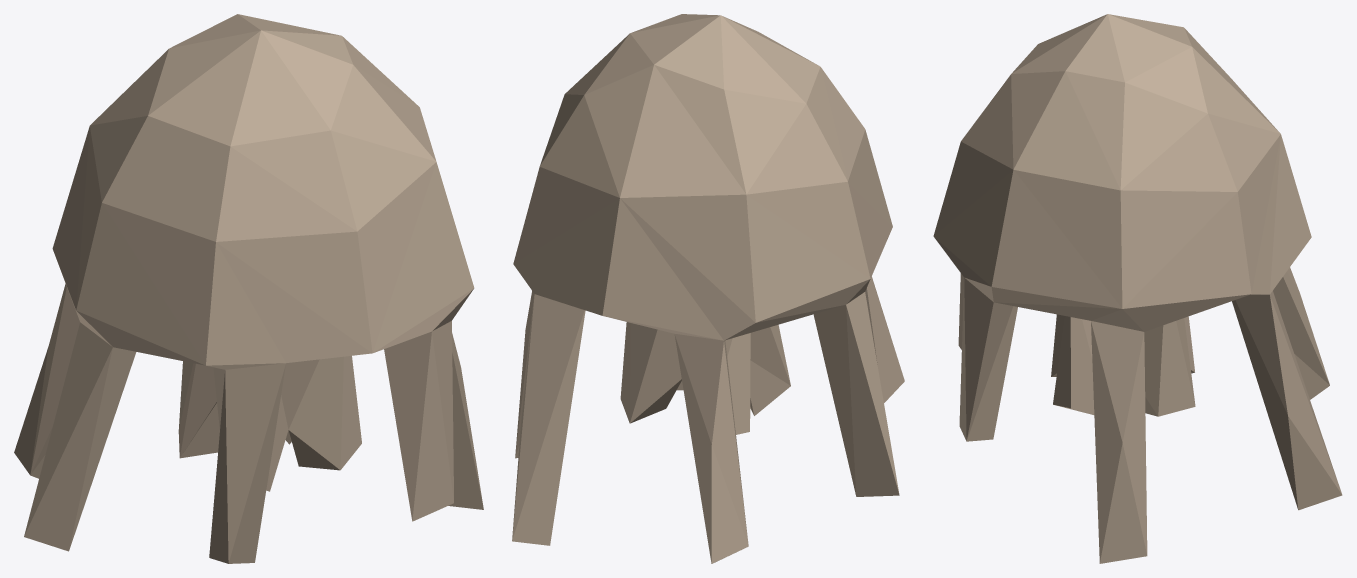
3 renders of one model, left to right at view 1: azimuth 30°, elevation 25°; view 2: azimuth 150°, elevation 25°; view 3: azimuth 270°, elevation 25°, orthographic. The views are drawn at different scales.
Parts seen in each view (by area): view 1: part0; view 2: part0; view 3: part0.
Boxes of the visible parts, left/top/right/bottom form: part0: left=14, top=14, right=483, bottom=563; part0: left=512, top=14, right=904, bottom=563; part0: left=933, top=14, right=1342, bottom=563.
Size of the model in its own units: 4.94 by 5.73 by 4.64.
